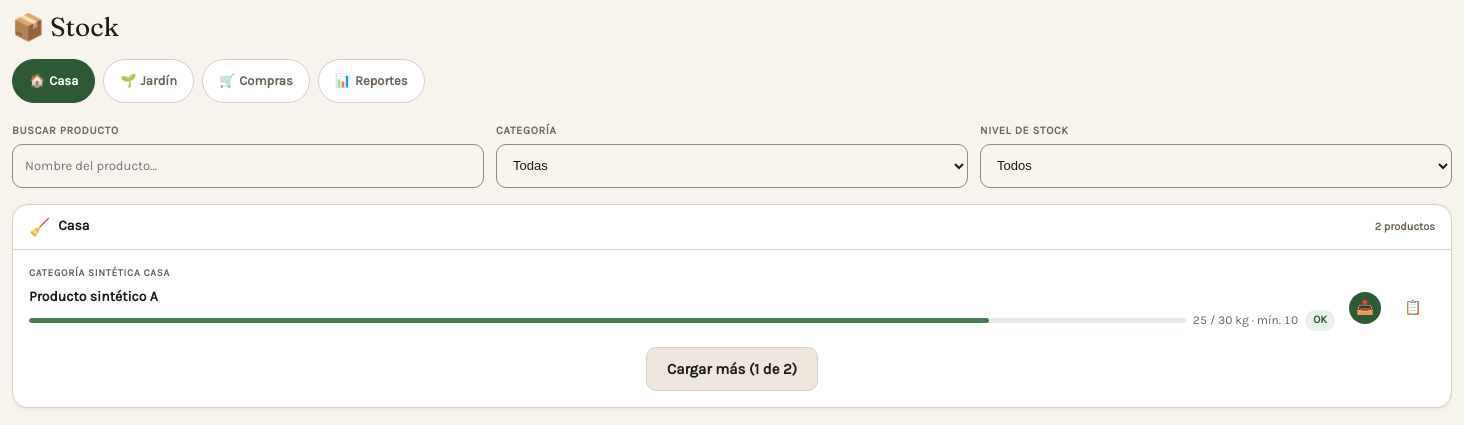
Stock — paginación › un Cargar más viejo no mezcla resultados después de cambiar de filtro
This screenshot has width=1464, height=425.
Expected: the text "Producto sintético A" is shown, [29, 288, 158, 305]
Click the button "Cargar más (1 de 2)".
click(732, 369)  # box [646, 347, 818, 391]
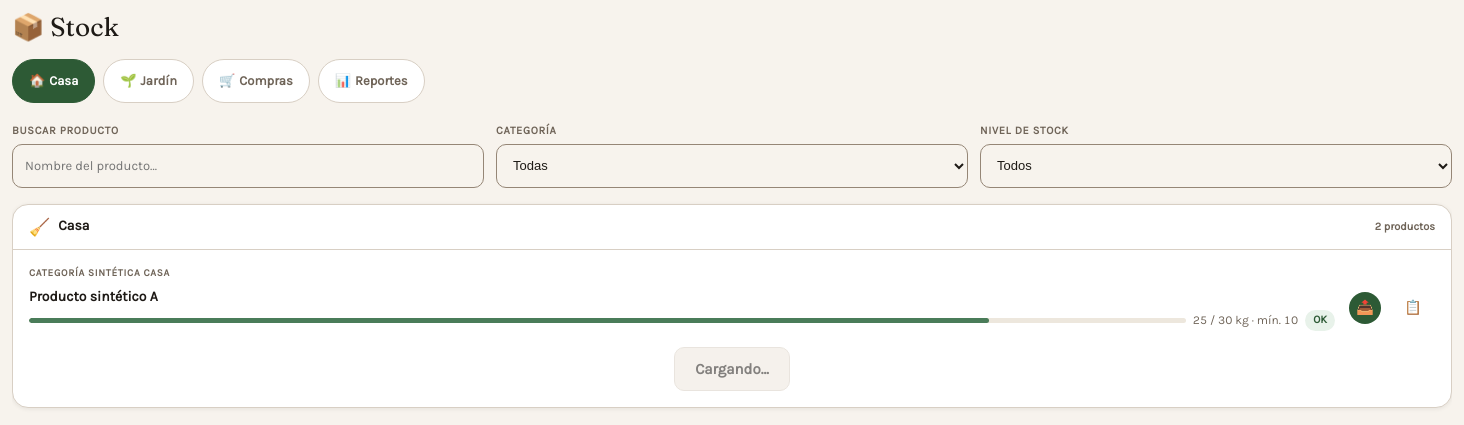
Click the link "🌱 Jardín".
click(149, 81)  # box [103, 59, 194, 103]
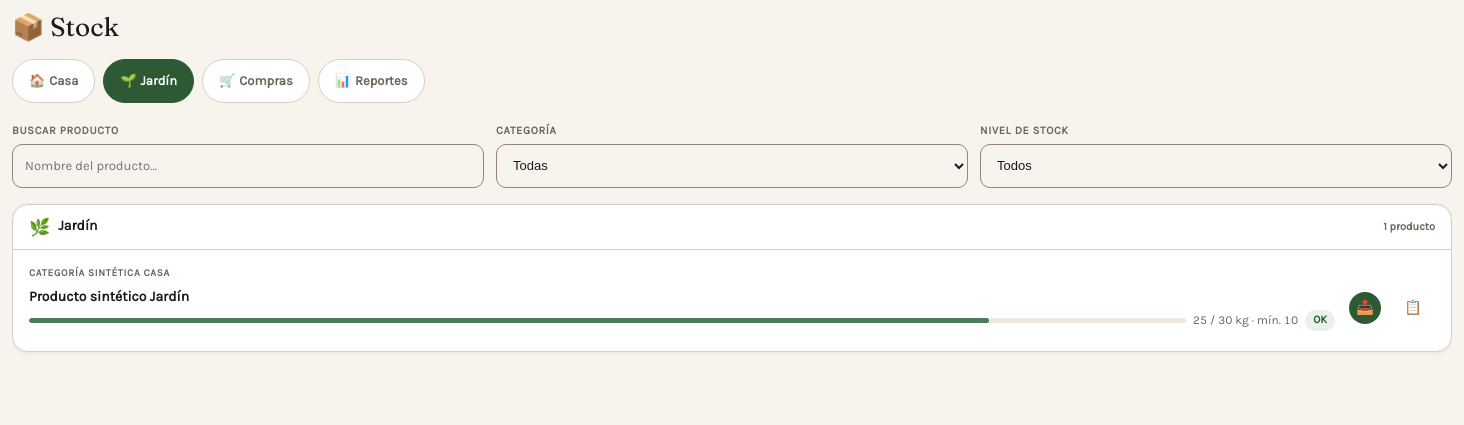
Expected: the text "Producto sintético Jardín" is shown, [29, 288, 189, 305]
